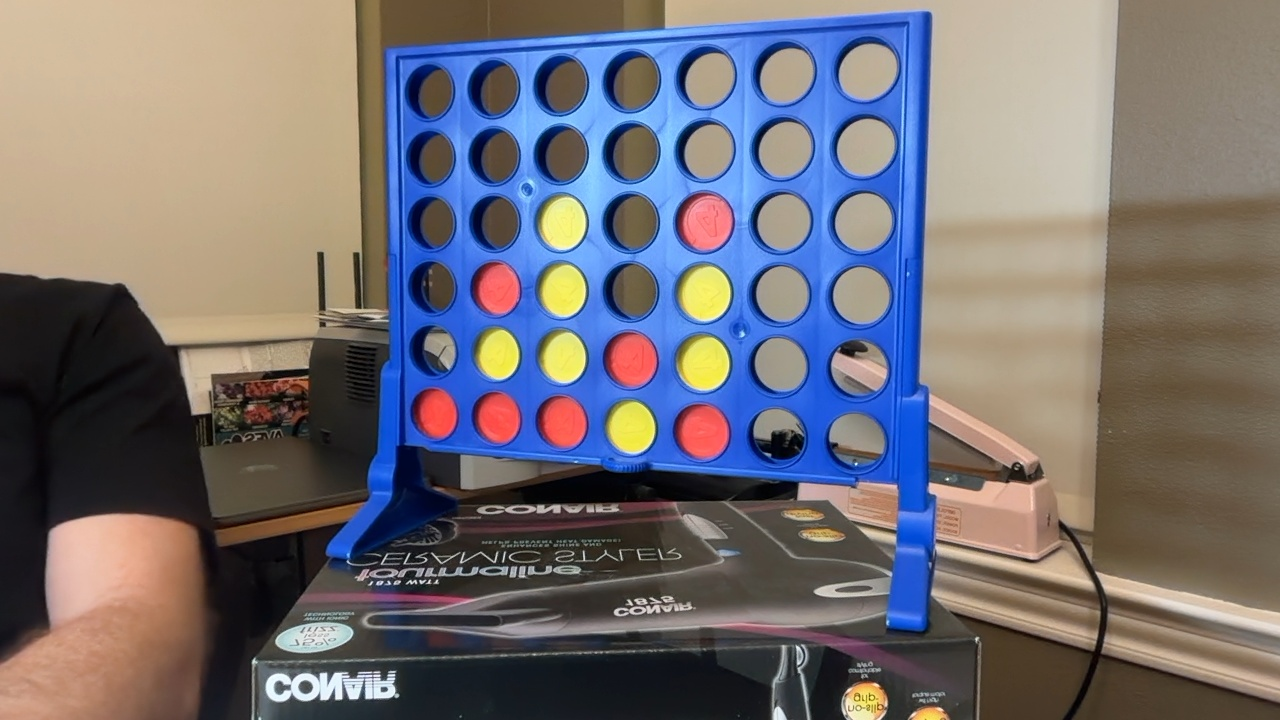red piece: (677, 192, 733, 251), (675, 404, 729, 460), (604, 331, 657, 388), (537, 396, 586, 449), (472, 261, 520, 315), (474, 392, 521, 444), (413, 388, 457, 439)
yellow piece: (677, 264, 732, 321), (676, 334, 730, 391), (605, 399, 656, 454), (537, 194, 587, 250), (537, 263, 586, 317), (539, 329, 586, 384), (474, 328, 520, 380)
